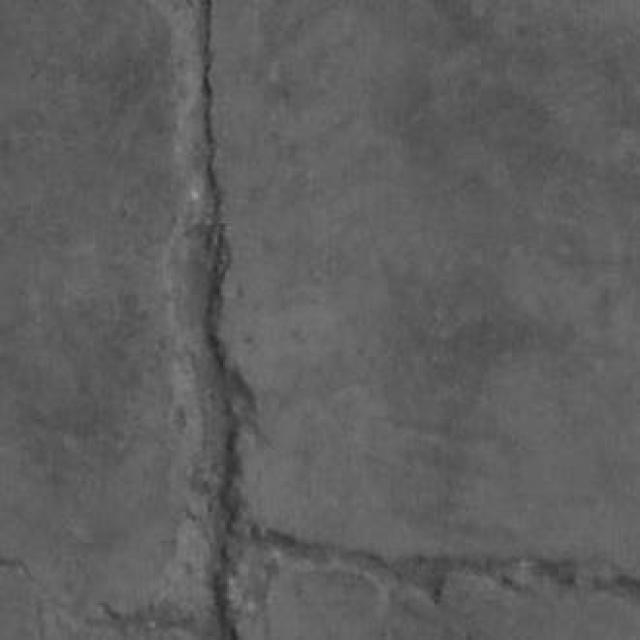crack: (202, 0, 254, 639), (247, 526, 639, 605), (88, 604, 201, 638)
